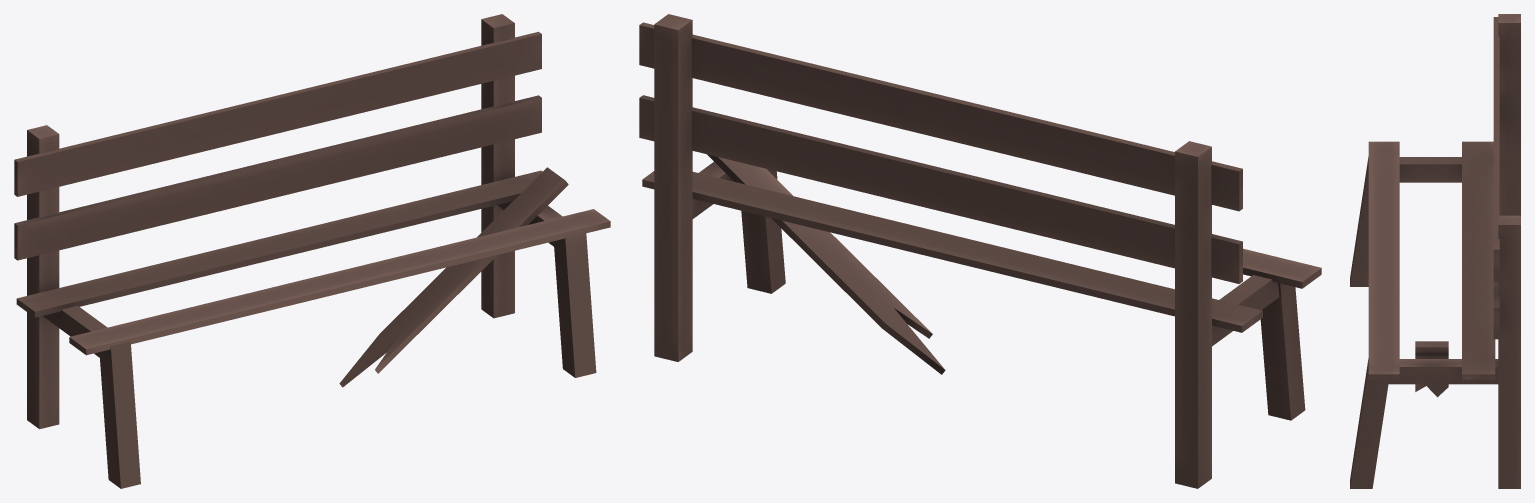
Rendered from Bench_2.fbx.
3 views of the same model, side by side, from view 1: azimuth 30°, elevation 25°; view 2: azimuth 150°, elevation 25°; view 3: azimuth 270°, elevation 25° (orthographic). The views are drawn at different scales.
Visible parts, largest first — view 1: Bench_2; view 2: Bench_2; view 3: Bench_2.
Boxes of the visible parts, x1,y1,x2,y2 form: Bench_2: [14, 14, 610, 488]; Bench_2: [639, 14, 1321, 488]; Bench_2: [1350, 14, 1520, 488].
Bounding box in the file's own units: 58.98 × 31.18 × 18.3.
